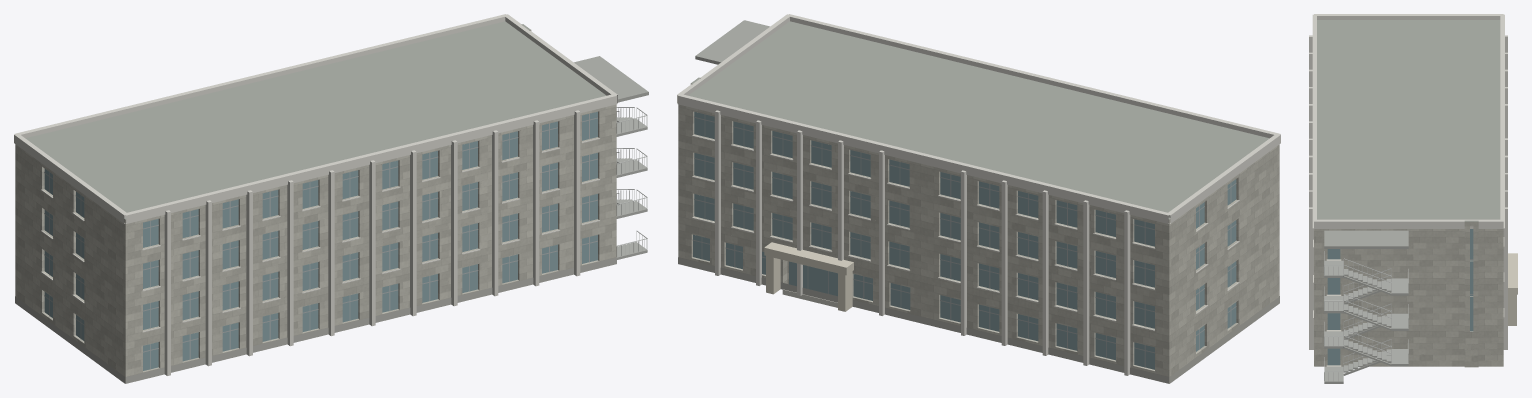
3 renders of one model, left to right at view 1: azimuth 30°, elevation 25°; view 2: azimuth 150°, elevation 25°; view 3: azimuth 270°, elevation 25°, orthographic. The views are drawn at different scales.
Parts seen in each view (by area): view 1: jiseon__wall, jiseon__roof, jiseon__trim, jiseon__glass, jiseon__base, jiseon__frame, jiseon__escapeLanding, jiseon__escapeConcrete, jiseon__escapeRail; view 2: jiseon__wall, jiseon__roof, jiseon__glass, jiseon__trim, jiseon__base, jiseon__frame, jiseon__portalStone, jiseon__escapeConcrete; view 3: jiseon__roof, jiseon__wall, jiseon__trim, jiseon__escapeLanding, jiseon__escapeConcrete, jiseon__escapeTreads, jiseon__escapeRail, jiseon__glass, jiseon__portalStone.
Boxes of the visible parts, x1,y1,x2,y2 form: jiseon__wall: (15, 30, 616, 383); jiseon__roof: (25, 21, 606, 219); jiseon__trim: (14, 14, 617, 375); jiseon__glass: (44, 111, 597, 370); jiseon__base: (15, 257, 616, 383); jiseon__frame: (44, 113, 597, 369); jiseon__escapeLanding: (616, 118, 647, 259); jiseon__escapeConcrete: (574, 56, 648, 102); jiseon__escapeRail: (616, 107, 647, 256); jiseon__wall: (678, 78, 1279, 383); jiseon__roof: (688, 21, 1269, 383); jiseon__glass: (693, 112, 1236, 369); jiseon__trim: (677, 14, 1280, 375); jiseon__base: (678, 257, 1279, 383); jiseon__frame: (692, 114, 1236, 367); jiseon__portalStone: (764, 242, 853, 311); jiseon__escapeConcrete: (695, 20, 769, 64); jiseon__roof: (1314, 20, 1500, 366); jiseon__wall: (1314, 221, 1503, 367); jiseon__trim: (1309, 14, 1507, 349); jiseon__escapeLanding: (1324, 260, 1408, 383); jiseon__escapeConcrete: (1324, 230, 1408, 375); jiseon__escapeTreads: (1343, 269, 1391, 372); jiseon__escapeRail: (1324, 251, 1408, 380); jiseon__glass: (1327, 229, 1473, 365); jiseon__portalStone: (1508, 253, 1517, 325).
Bounding box in the file's own units: 48.7 × 15.25 × 19.26.
Materials: 17 (1 with a texture image).
